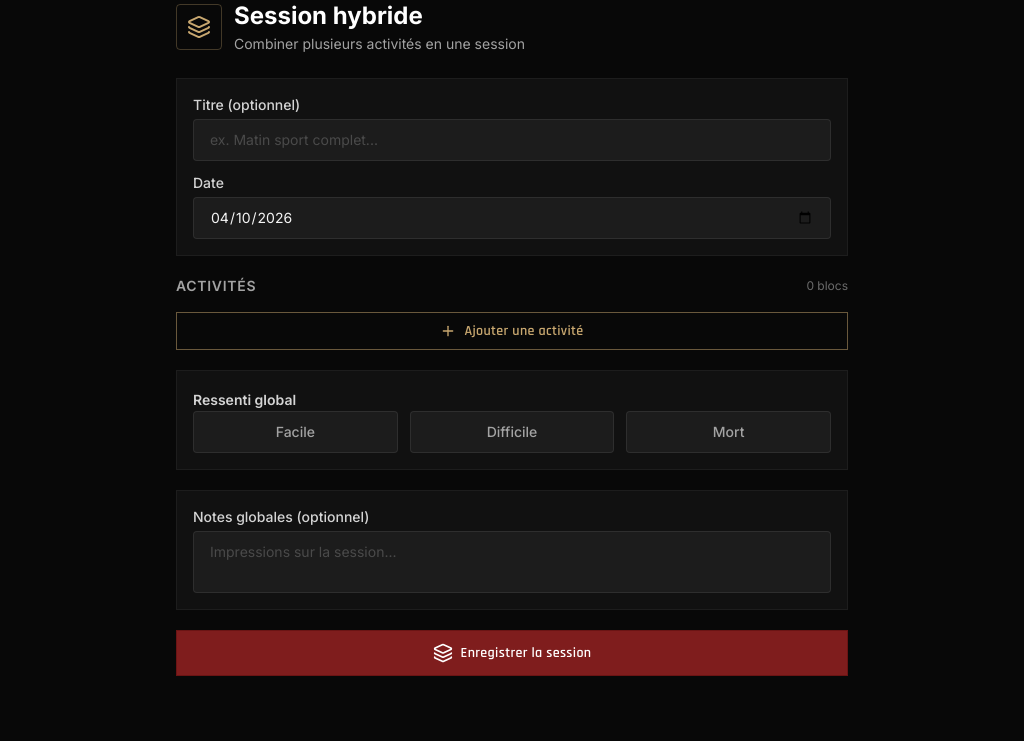
Test case: HybridSessionPage › Ajout de blocs via la modal › ajoute un bloc Musculation
What coordinates should you click on to do the following:
click the button "Ajouter une activité"
I would click on:
 (512, 331)
Its box is [176, 312, 848, 350].
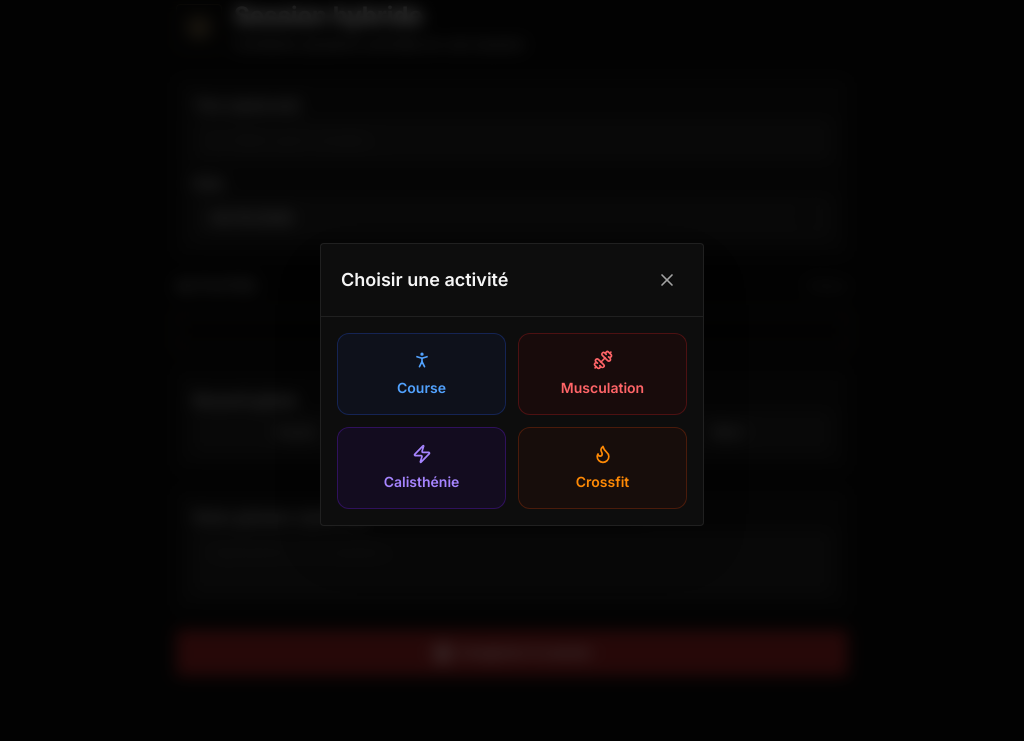
Result: the text "Musculation" is shown at [561, 378, 644, 398]
What coordinates should you click on to do the following:
click the button "Musculation"
I would click on:
 (602, 374)
Its box is [518, 332, 687, 414].
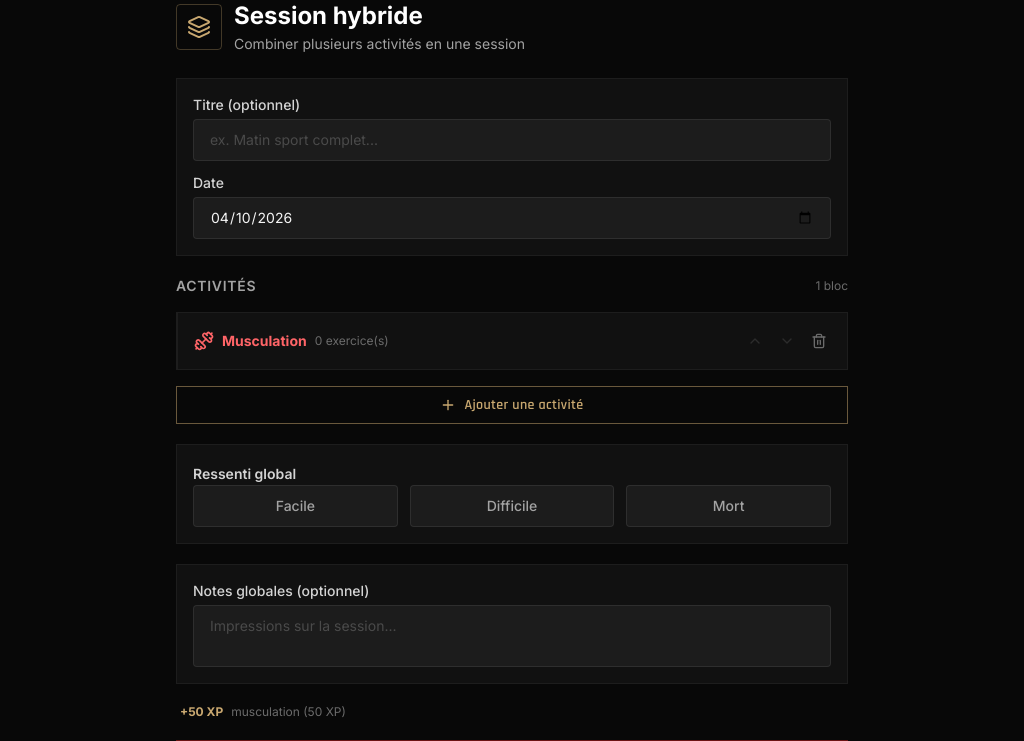
Result: the text "1 bloc" is shown at [815, 278, 848, 294]
